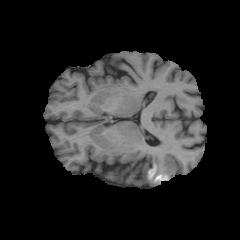glioma: (142, 154, 178, 185)
